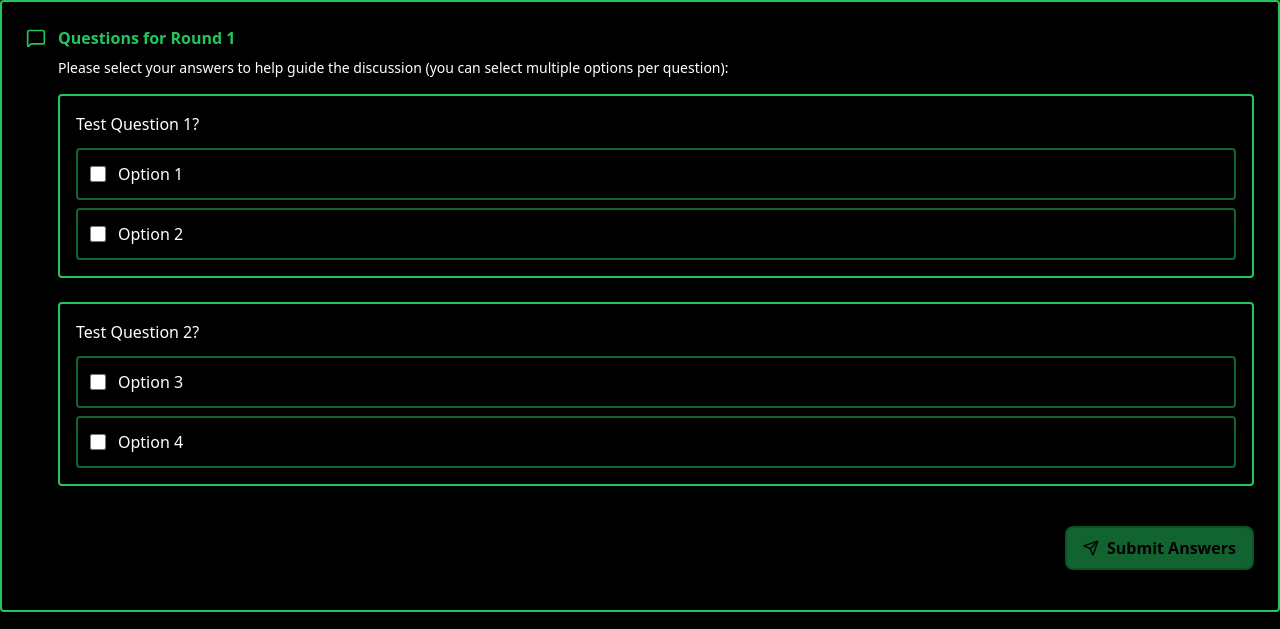
Scenario: QuestionGenerator Component › should enable Submit button when at least one answer is selected
Click the checkbox labelled "Option 1".
click(98, 174)  # box [90,166,106,182]
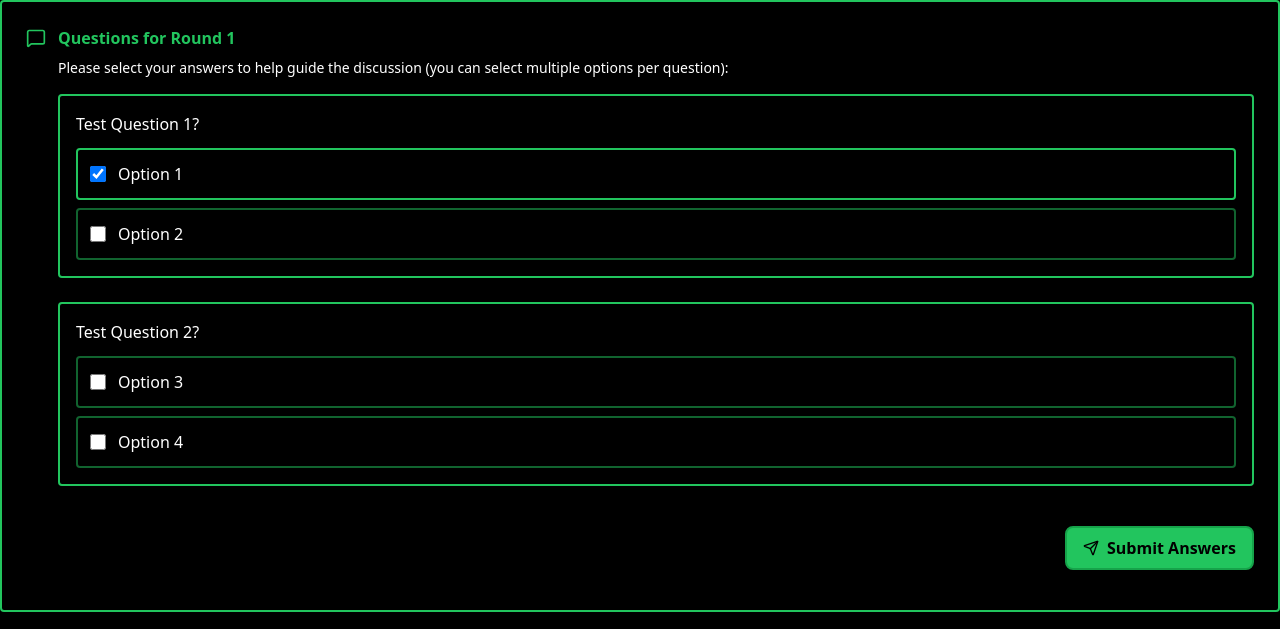
Expected: the button "Submit Answers" is enabled, [1065,526,1254,570]
